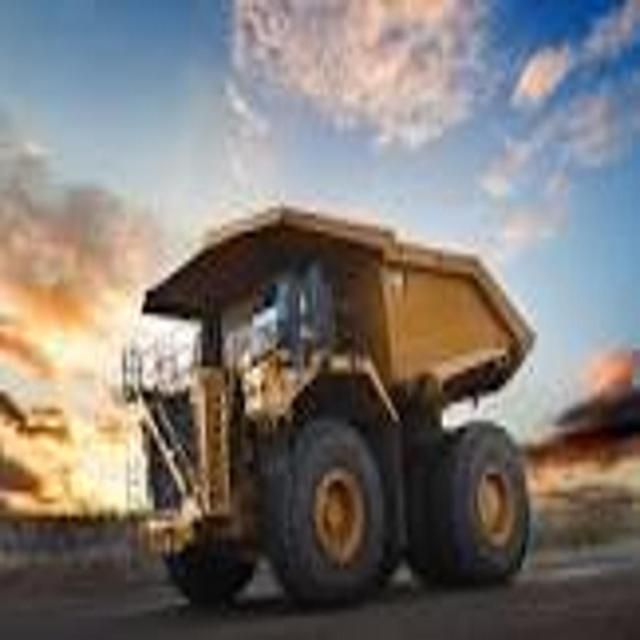dump_truck: (121, 196, 536, 611)
